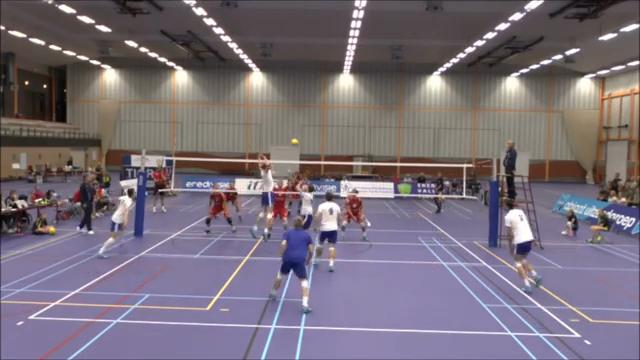Attack: (250, 149, 274, 243)
Player: (270, 217, 313, 313), (504, 198, 541, 293), (97, 188, 134, 258), (314, 192, 340, 271), (205, 183, 235, 233), (341, 189, 367, 240), (267, 180, 287, 232), (300, 184, 314, 229), (287, 172, 301, 215), (226, 181, 241, 221)
ball: (291, 136, 299, 146)
